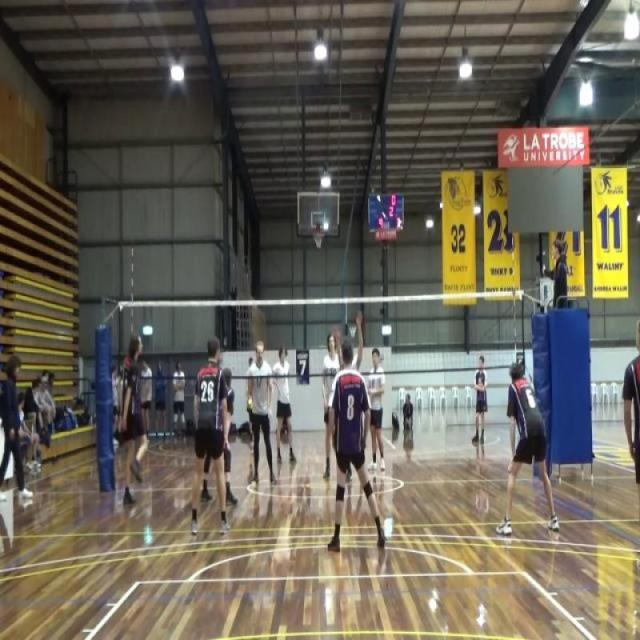volleyball: (246, 399, 254, 412)
